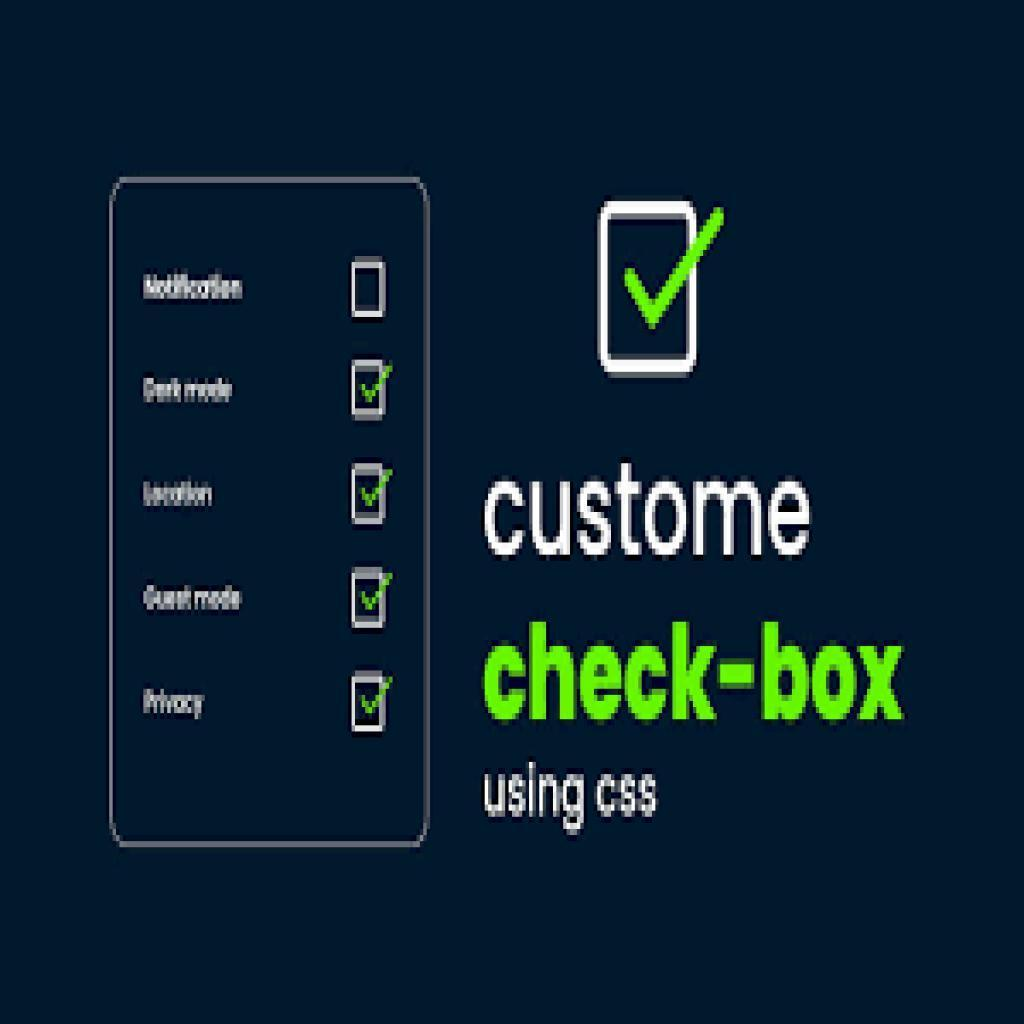checkbox: (353, 263, 387, 319), (353, 468, 387, 522), (353, 573, 385, 629), (352, 676, 384, 730), (356, 365, 387, 419)
